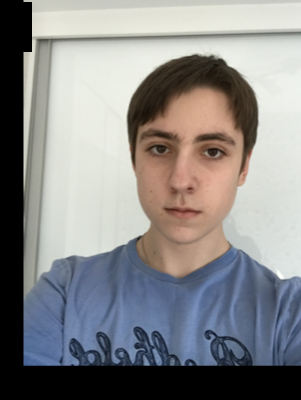without_mask: (134, 117, 239, 244)
